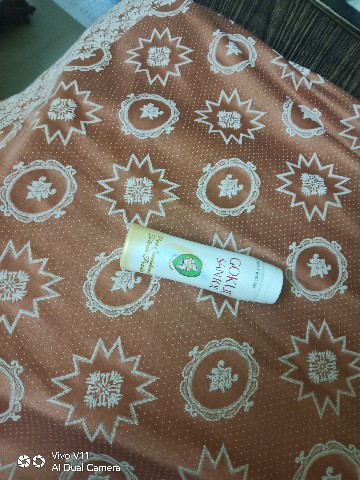gokulsantol big: (109, 210, 315, 320)
